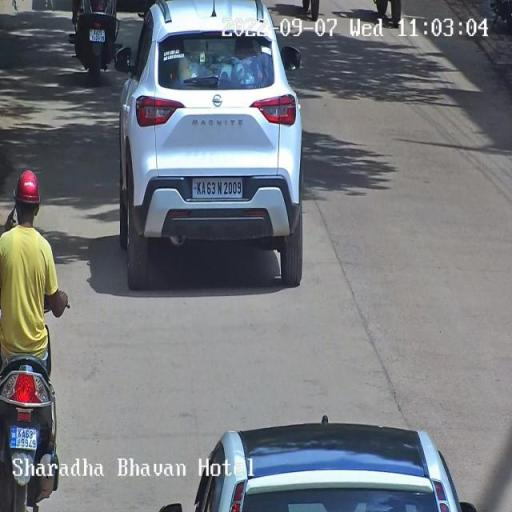numberplate: (8, 426, 38, 451)
using mobile: (3, 197, 19, 228)
